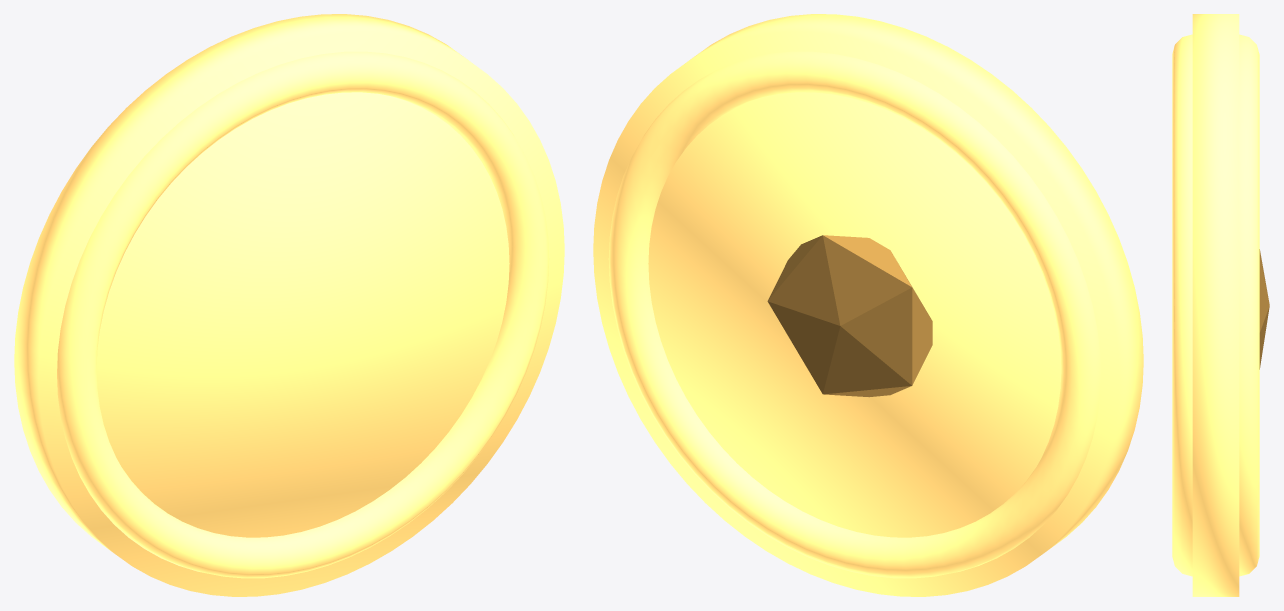
File: coin.glb
3 renders of one model, left to right at view 1: azimuth 30°, elevation 25°; view 2: azimuth 150°, elevation 25°; view 3: azimuth 270°, elevation 25°, orthographic. The views are drawn at different scales.
Parts seen in each view (by area): view 1: Cylinder, Torus.001; view 2: Cylinder, Torus, Icosphere; view 3: Cylinder, Torus.001, Torus, Icosphere.
Boxes of the visible parts, x1,y1,x2,y2 form: Cylinder: (14, 14, 564, 596); Torus.001: (57, 51, 549, 578); Cylinder: (593, 14, 1143, 596); Torus: (608, 51, 1100, 578); Icosphere: (767, 235, 932, 397); Cylinder: (1192, 14, 1239, 596); Torus.001: (1172, 34, 1192, 576); Torus: (1239, 34, 1259, 576); Icosphere: (1259, 249, 1269, 369).
Size of the model in its own units: 2 by 2 by 0.335.
